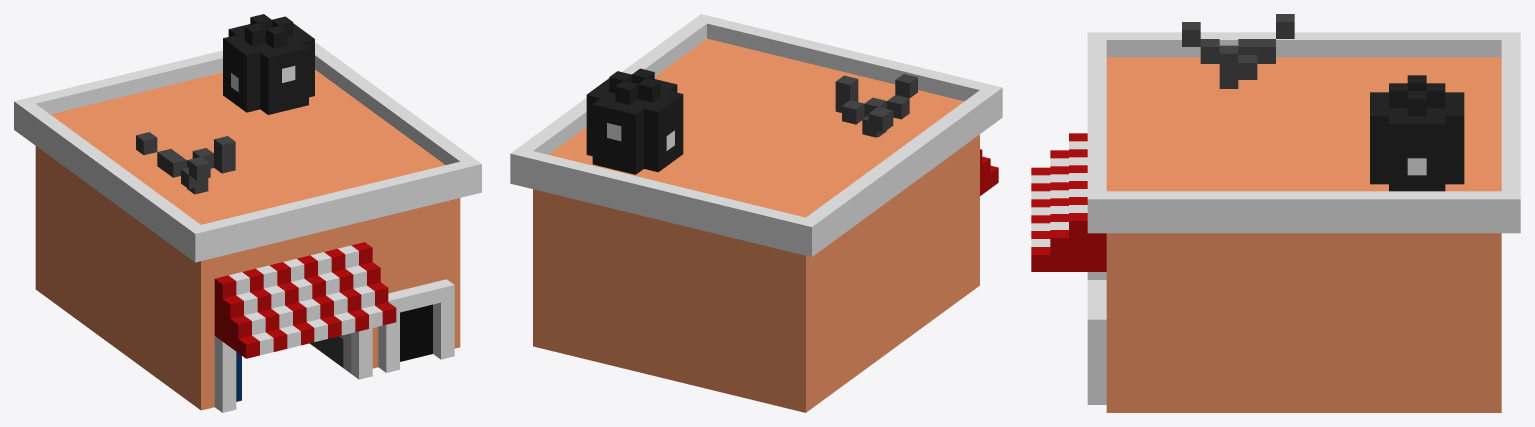
Rendered from tienda1.1.fbx.
The picture shows the model from 3 angles, left to right: view 1: azimuth 30°, elevation 25°; view 2: azimuth 150°, elevation 25°; view 3: azimuth 270°, elevation 25°; orthographic projection. The views are drawn at different scales.
Parts seen in each view (by area): view 1: Cubo.2148; view 2: Cubo.2148; view 3: Cubo.2148.
Boxes of the visible parts, <box> form: Cubo.2148: <box>14,14,481,412</box>; Cubo.2148: <box>510,14,1002,412</box>; Cubo.2148: <box>1031,14,1520,412</box>.
Bounding box in the file's own units: 2100 × 1700 × 2600.
